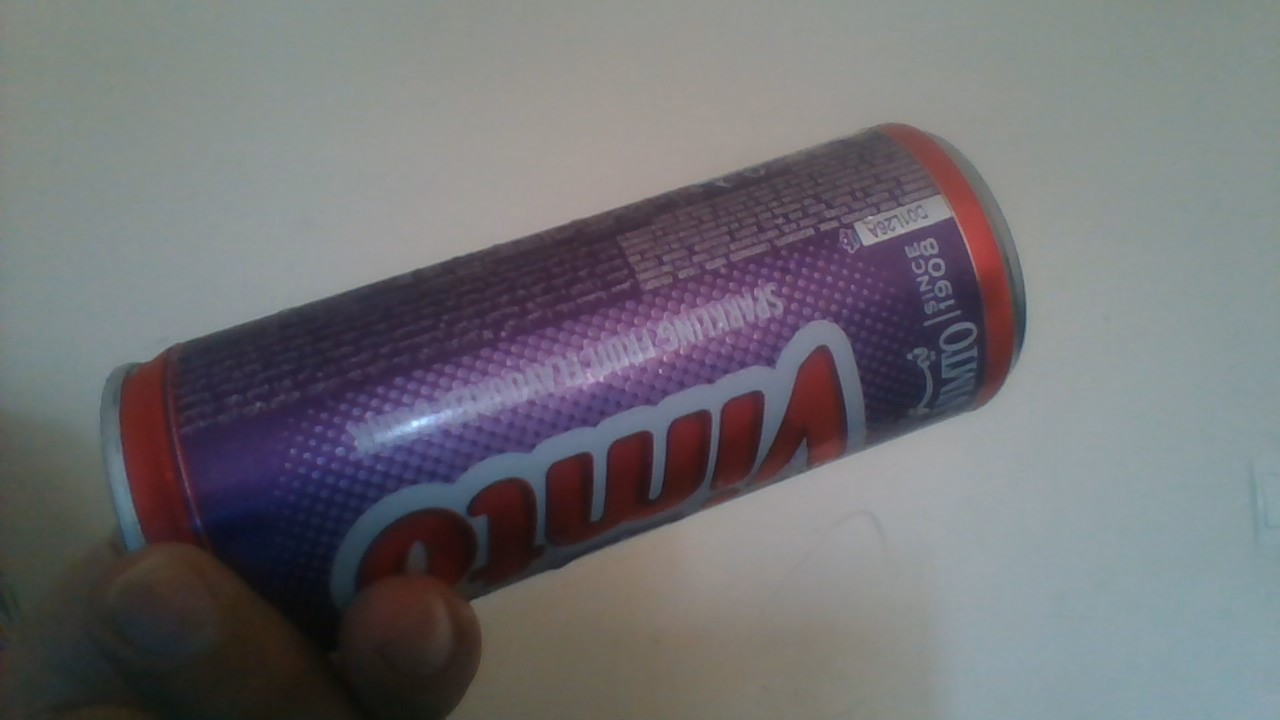can: (52, 115, 1050, 627)
